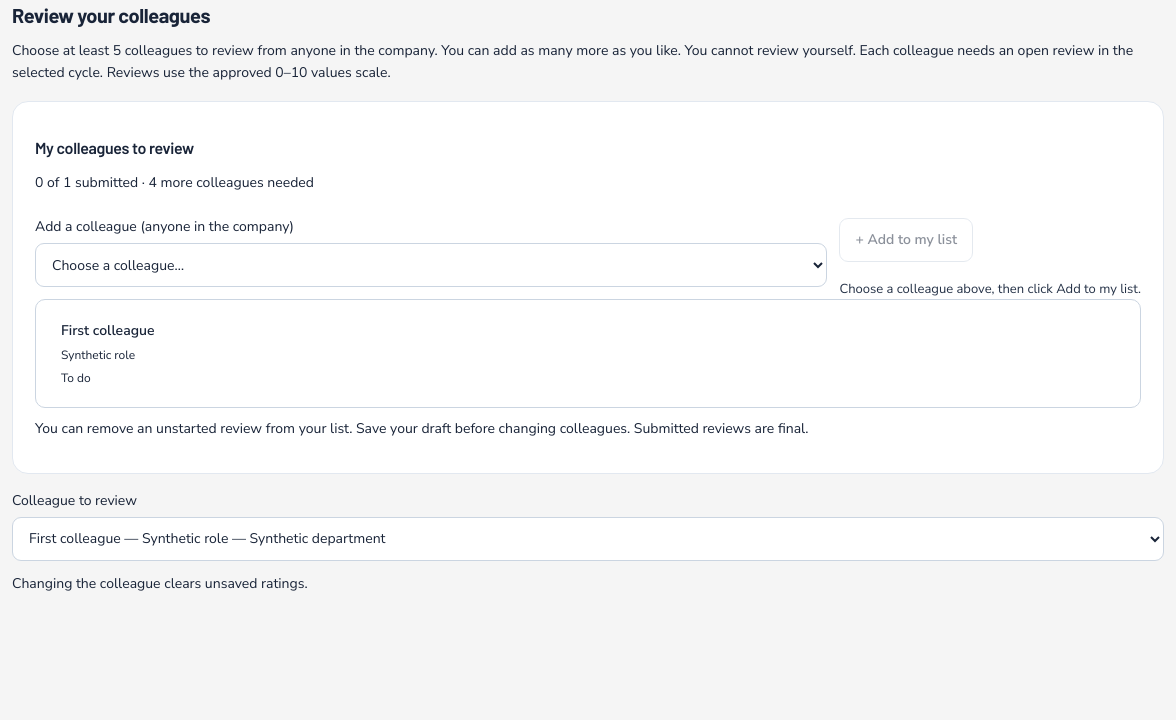
Test: fewer than five chosen colleagues blocks submission but allows a private draft
Later steps or results of the test are not shown.
Select "First colleague — Synthetic role — Synthetic department" in the dropdown named "Colleague to review": (588, 539) top-left (12, 517), bottom-right (1164, 561)
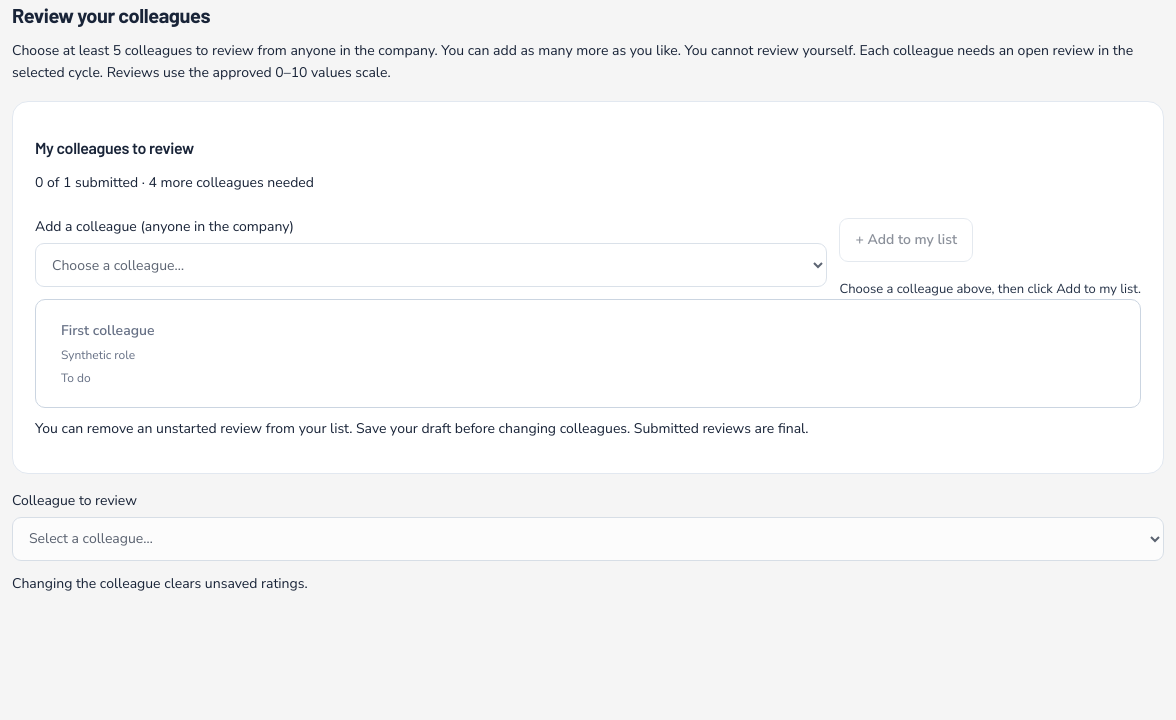
Select "Select a colleague…" in the dropdown named "Colleague to review": (588, 539) top-left (12, 517), bottom-right (1164, 561)
(page scrolled)
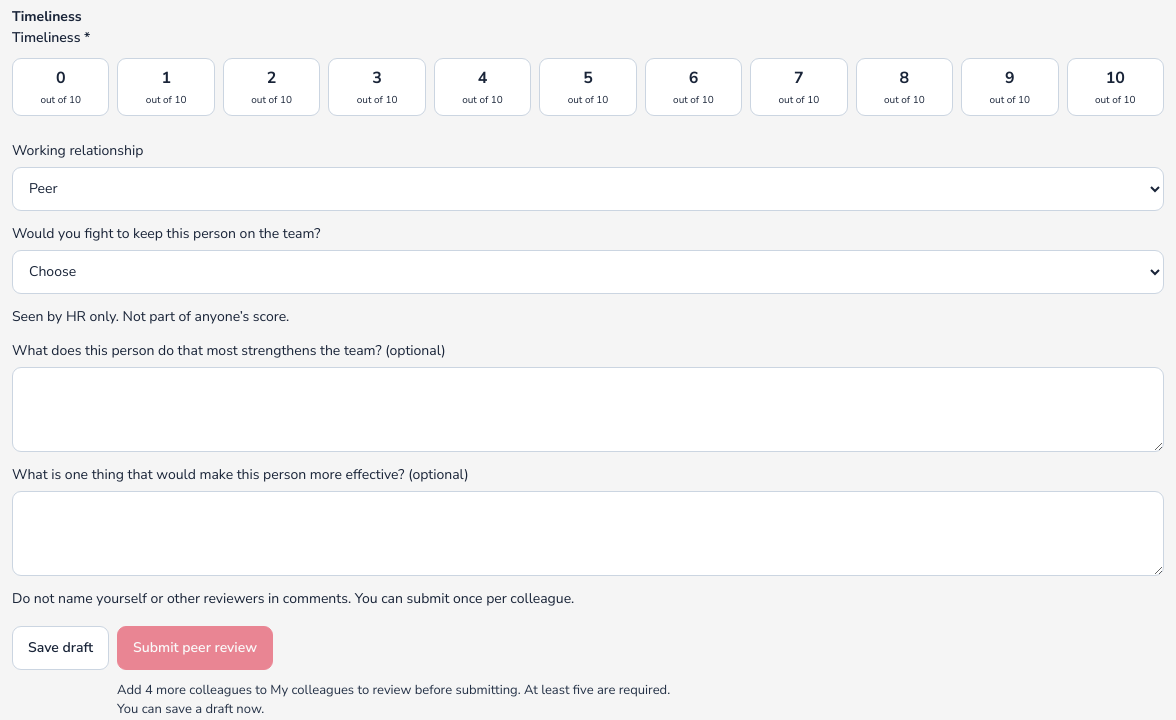
Result: the button "Submit peer review" is disabled at top-left (117, 626), bottom-right (273, 670)
